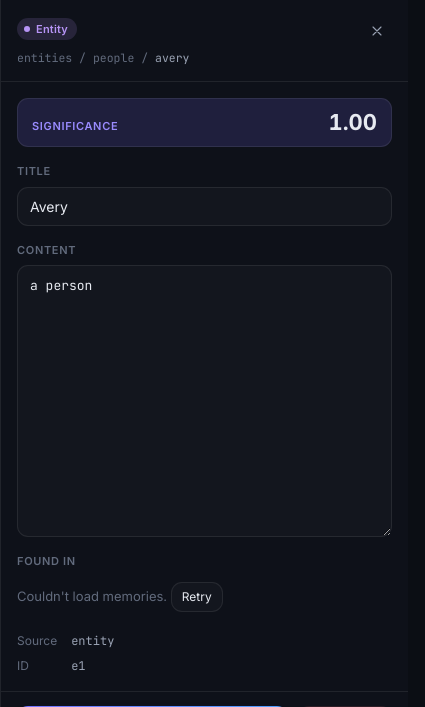
it: DetailPanel › shows a retry on failure and recovers
The image size is (425, 707).
Expected: the text "Couldn't load memories. Retry" is shown, [17,582,223,612]
Step 1. Click the button "Retry" → (197, 597), box [171,582,223,612]
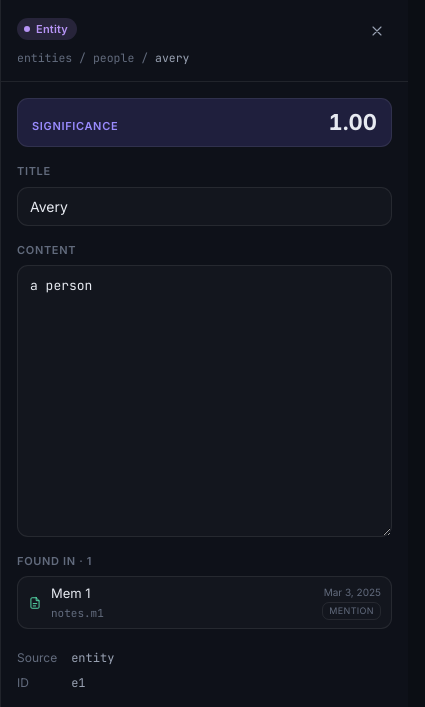
Expected: the text "Mem 1" is shown, [51,585,91,601]
